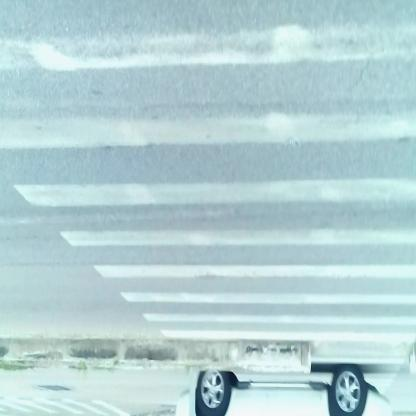crosswalk: (2, 11, 413, 349)
